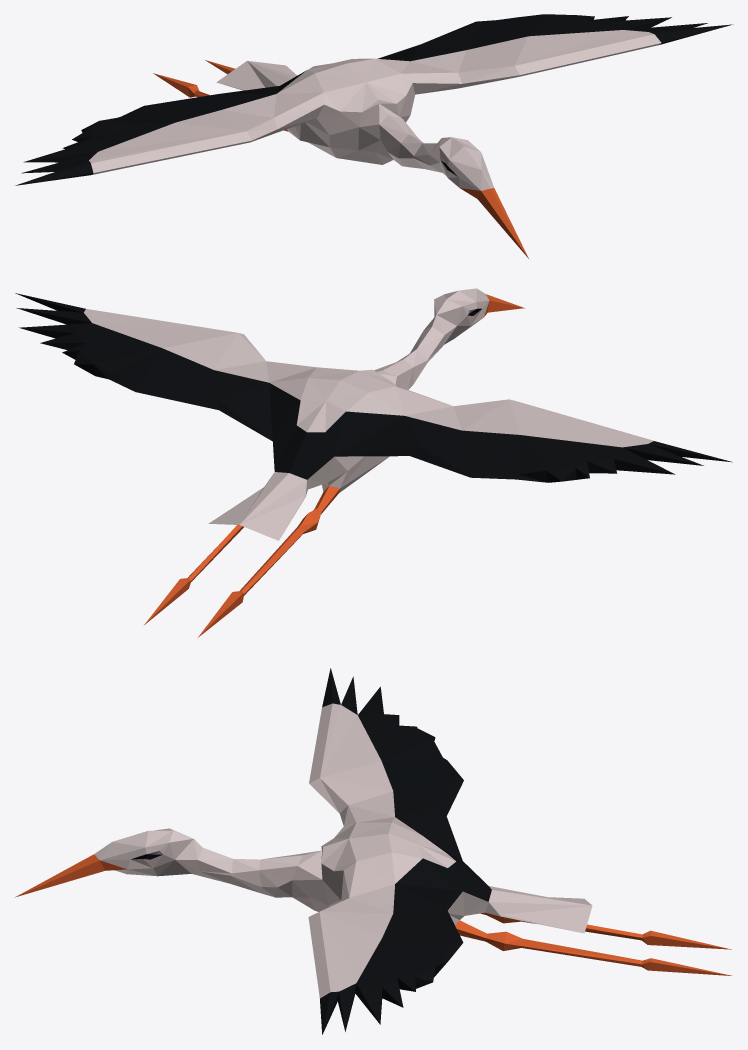
File: stork_colorMap.obj
3 renders of one model, top to bottom at view 1: azimuth 30°, elevation 25°; view 2: azimuth 150°, elevation 25°; view 3: azimuth 270°, elevation 25°, orthographic. The views are drawn at different scales.
Bounding box in the file's own units: 204 × 35.15 × 173.
